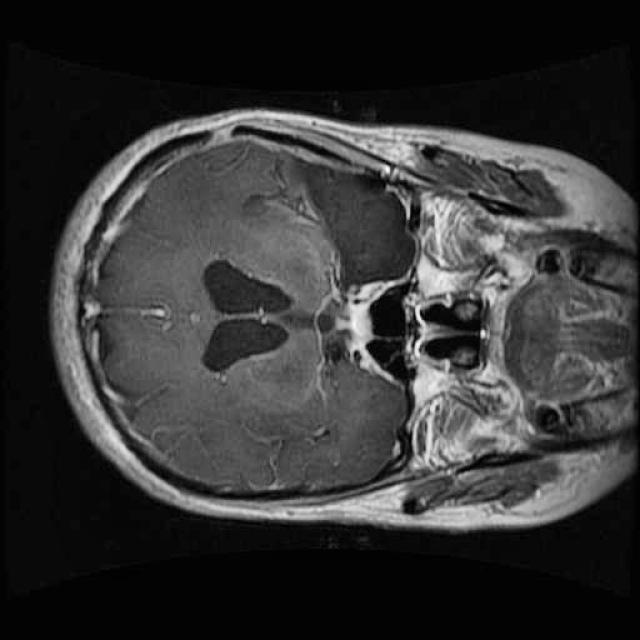Non-Tumor: (272, 134, 471, 315)
